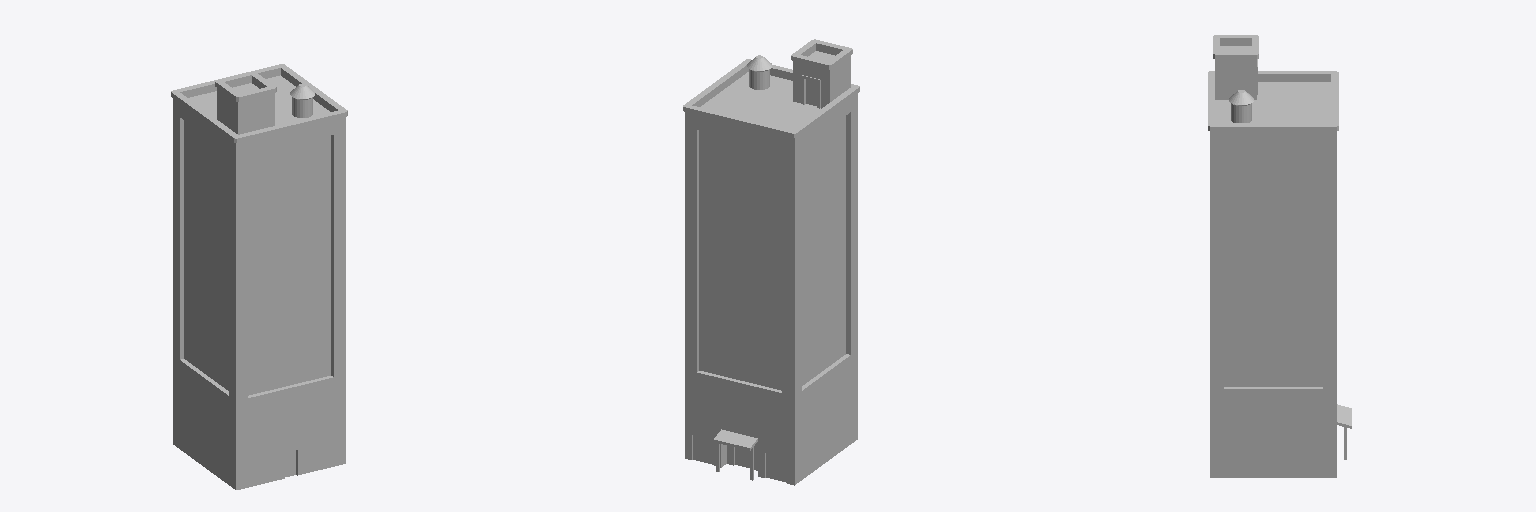
Rendered from skyscraper_c.obj.
The picture shows the model from 3 angles: view 1: azimuth 30°, elevation 25°; view 2: azimuth 150°, elevation 25°; view 3: azimuth 270°, elevation 25°; orthographic projection.
Parts seen in each view (by area): view 1: skyscraperC; view 2: skyscraperC; view 3: skyscraperC.
Part boxes in pixels (x1,y1,x2,y2): skyscraperC: (171,64,347,489); skyscraperC: (683,39,859,485); skyscraperC: (1208,35,1351,477).
Bounding box in the file's own units: 2.48 × 8.16 × 2.74.